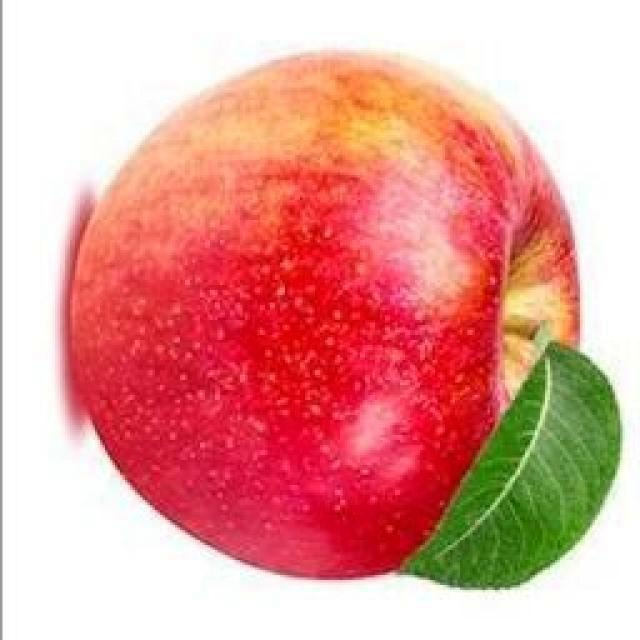Apple: (70, 55, 578, 577)
